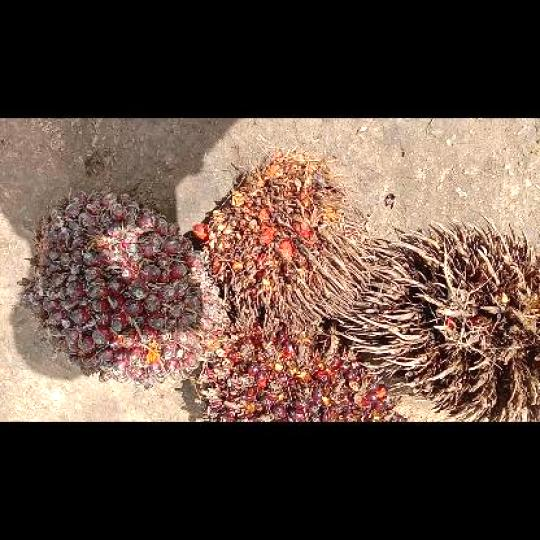kurang masak: (18, 187, 234, 387)
masak: (193, 312, 412, 420)
terlalu masak: (185, 149, 378, 334)
